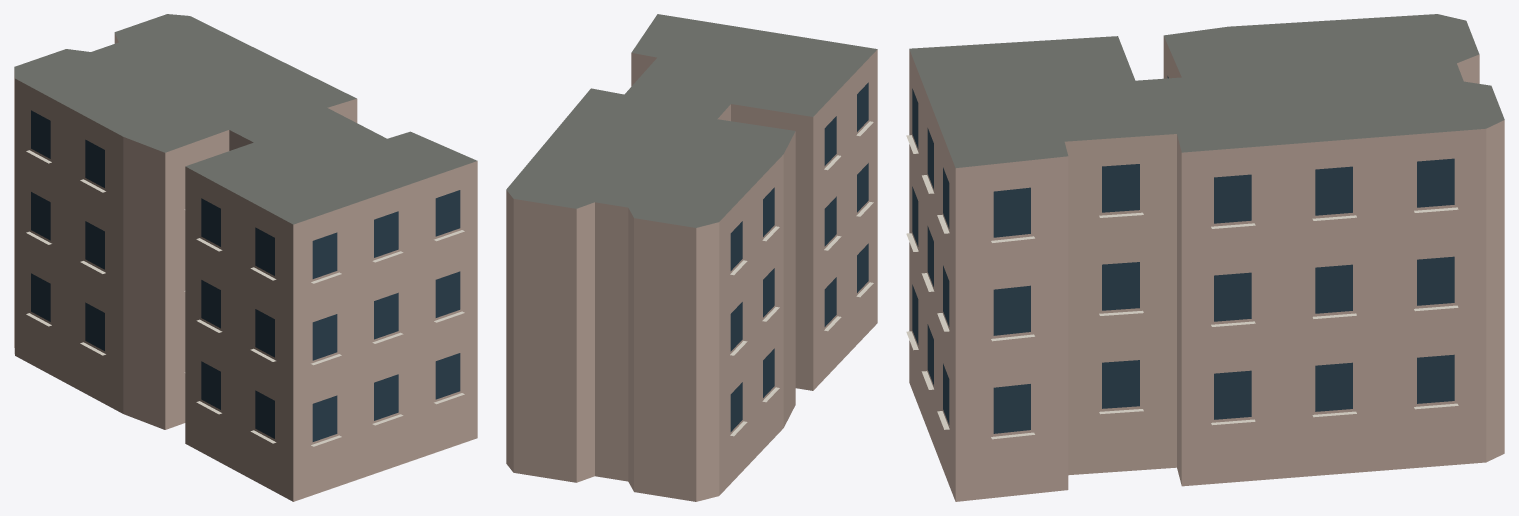
3 views of the same model, side by side, from view 1: azimuth 30°, elevation 25°; view 2: azimuth 150°, elevation 25°; view 3: azimuth 270°, elevation 25° (orthographic). The views are drawn at different scales.
Visible parts, largest first — view 1: Footprint 0, Inferred window bays, Window sills; view 2: Footprint 0, Inferred window bays, Window sills; view 3: Footprint 0, Inferred window bays, Window sills.
Boxes of the visible parts, <box> form: Footprint 0: <box>14,14,477,501</box>; Inferred window bays: <box>31,110,460,441</box>; Window sills: <box>26,150,464,446</box>; Footprint 0: <box>506,14,877,501</box>; Inferred window bays: <box>730,82,868,431</box>; Window sills: <box>730,121,873,436</box>; Footprint 0: <box>909,14,1504,501</box>; Inferred window bays: <box>912,76,1454,433</box>; Window sills: <box>906,135,1458,439</box>.
Bounding box in the file's own units: 11.9 × 11.91 × 19.36.
